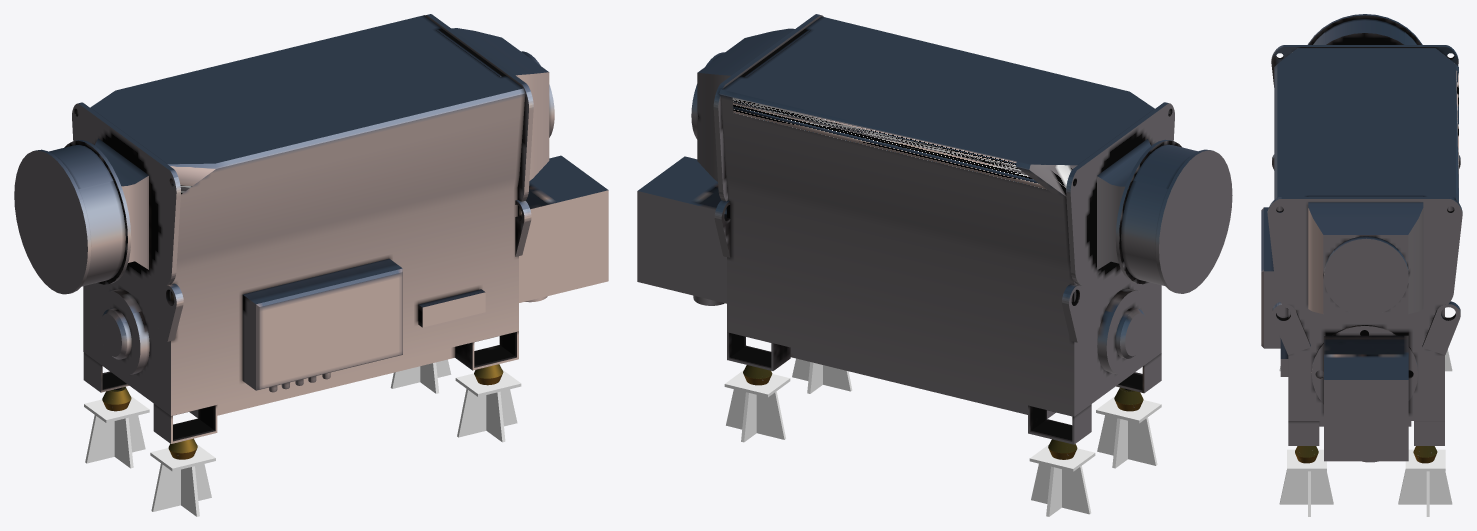
File: houzhuji1.glb
3 renders of one model, left to right at view 1: azimuth 30°, elevation 25°; view 2: azimuth 150°, elevation 25°; view 3: azimuth 270°, elevation 25°, orthographic. The views are drawn at different scales.
Parts seen in each view (by area): view 1: ding, jiao; view 2: ding, jiao; view 3: ding, jiao.
Part boxes in pixels (bbox=[...]): ding: bbox=[14, 14, 608, 443]; jiao: bbox=[84, 359, 521, 516]; ding: bbox=[637, 14, 1232, 444]; jiao: bbox=[724, 358, 1161, 516]; ding: bbox=[1261, 14, 1462, 462]; jiao: bbox=[1279, 316, 1452, 516].
Bounding box in the file's own units: 13.28 × 8.36 × 4.84.
4 materials, 2 textured.
